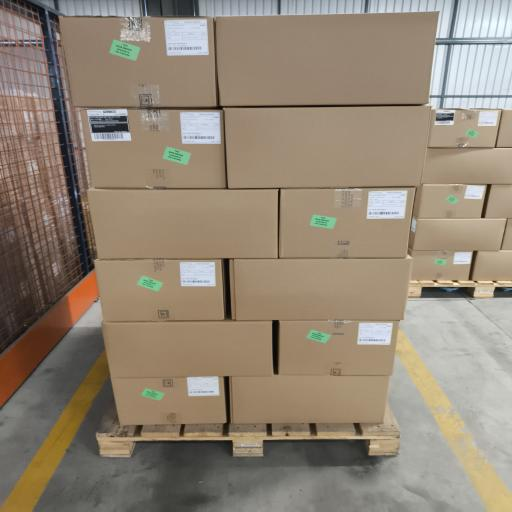pallet: (97, 405, 400, 457), (409, 281, 511, 298)
